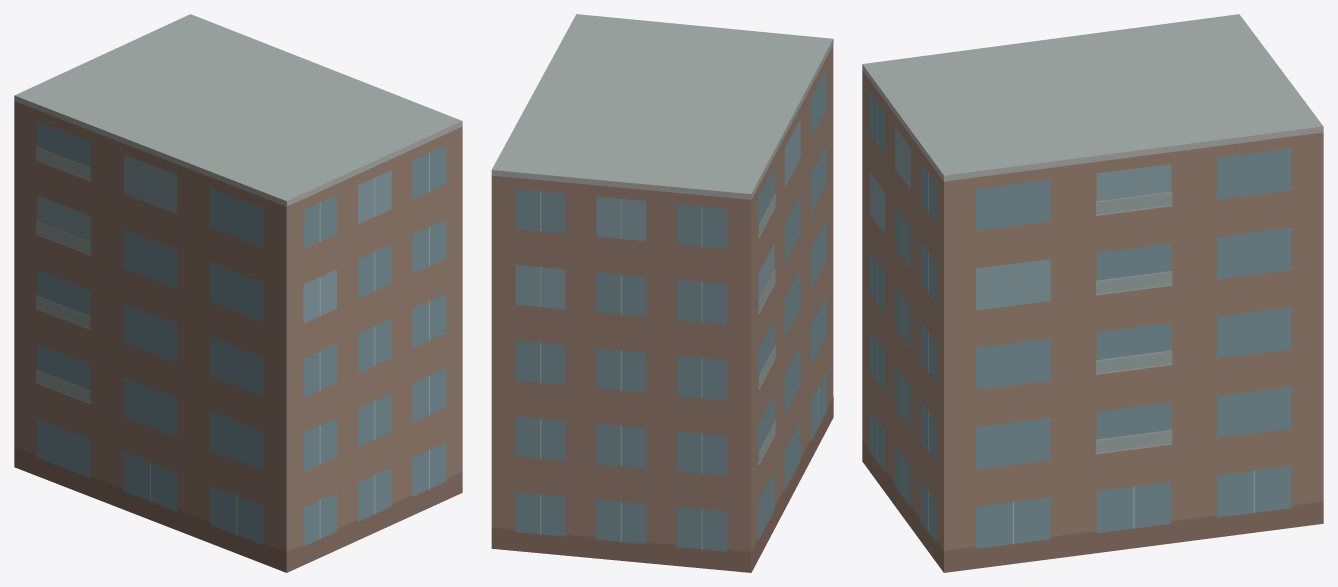
Rendered from survey-upis-33026272.glb.
3 views of the same model, side by side, from view 1: azimuth 30°, elevation 25°; view 2: azimuth 150°, elevation 25°; view 3: azimuth 270°, elevation 25° (orthographic). The views are drawn at different scales.
Visible parts, largest first — view 1: survey-upis-33026272.tmp; view 2: survey-upis-33026272.tmp; view 3: survey-upis-33026272.tmp.
Boxes of the visible parts, x1=… form: survey-upis-33026272.tmp: x1=14, y1=14, x2=462, y2=572; survey-upis-33026272.tmp: x1=491, y1=14, x2=833, y2=572; survey-upis-33026272.tmp: x1=862, y1=14, x2=1323, y2=572.
Size of the model in its own units: 14.24 by 16.3 by 17.17.
